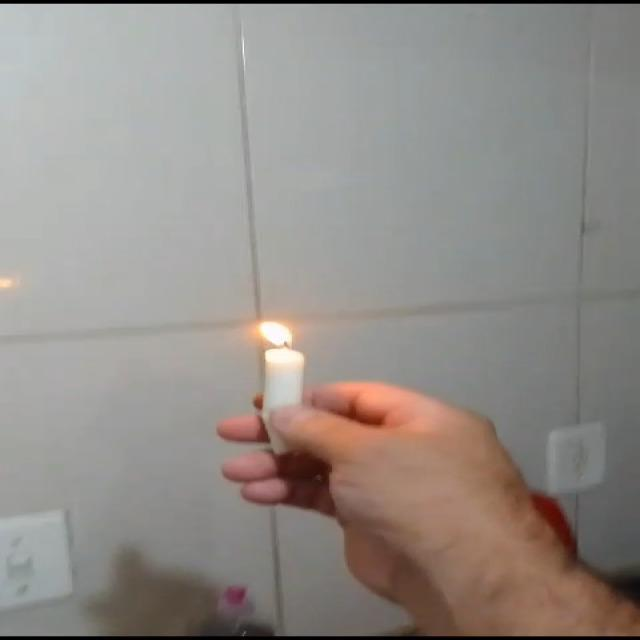fogo-ypXI: (254, 319, 295, 348)
